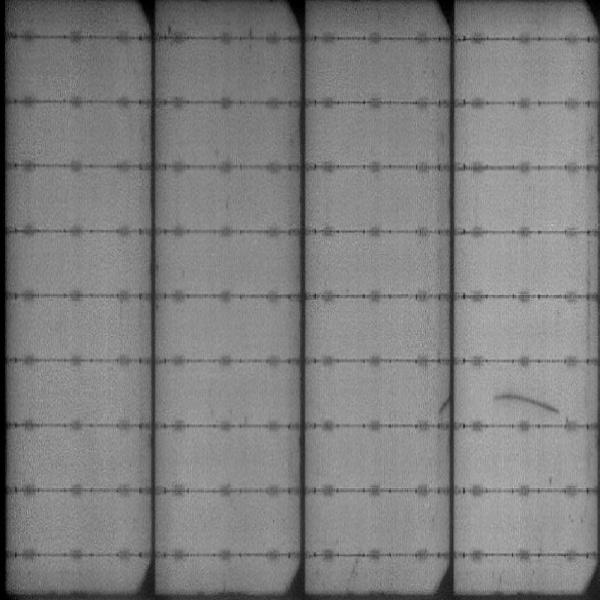scratch: (489, 392, 564, 416), (432, 393, 450, 420)
